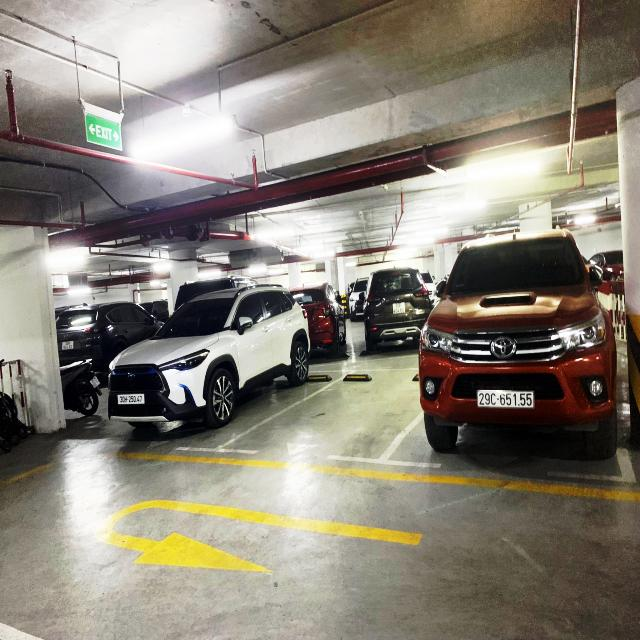license_plate: (476, 389, 538, 412), (117, 393, 147, 408), (392, 302, 407, 316)
